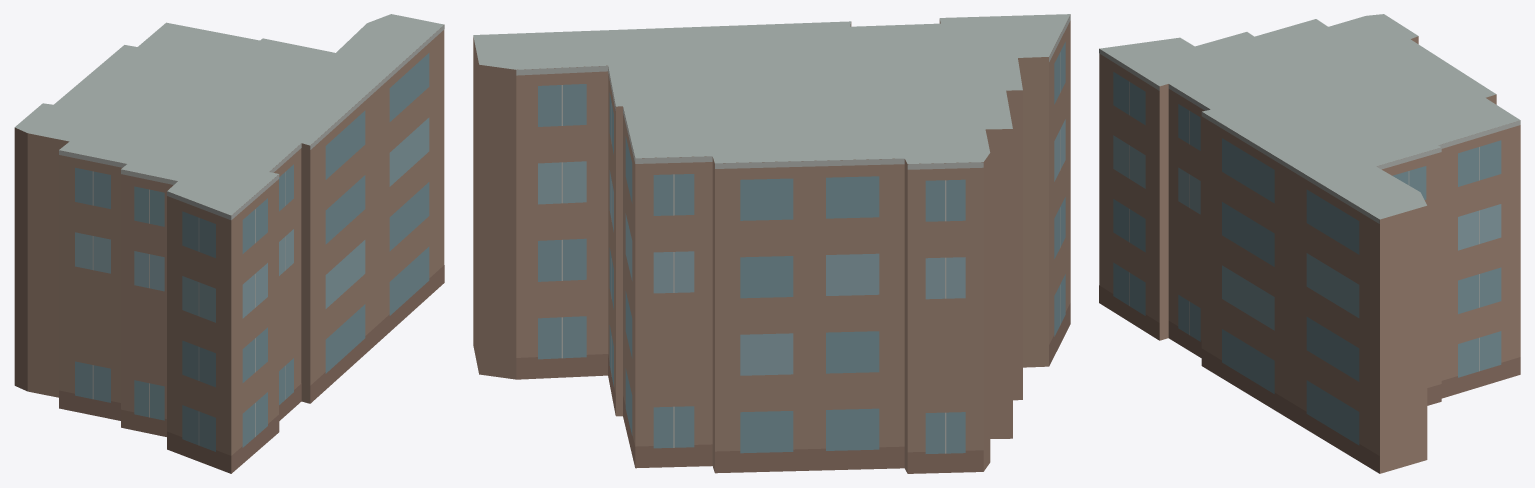
Rendered from survey-upis-32473417.glb.
The picture shows the model from 3 angles, left to right: view 1: azimuth 30°, elevation 25°; view 2: azimuth 150°, elevation 25°; view 3: azimuth 270°, elevation 25°; orthographic projection. The views are drawn at different scales.
Parts seen in each view (by area): view 1: survey-upis-32473417.tmp; view 2: survey-upis-32473417.tmp; view 3: survey-upis-32473417.tmp.
Boxes of the visible parts, <box> form: survey-upis-32473417.tmp: <box>14,14,444,473</box>; survey-upis-32473417.tmp: <box>473,14,1070,473</box>; survey-upis-32473417.tmp: <box>1099,14,1520,473</box>.
Bounding box in the file's own units: 22.88 × 13.2 × 19.83.
